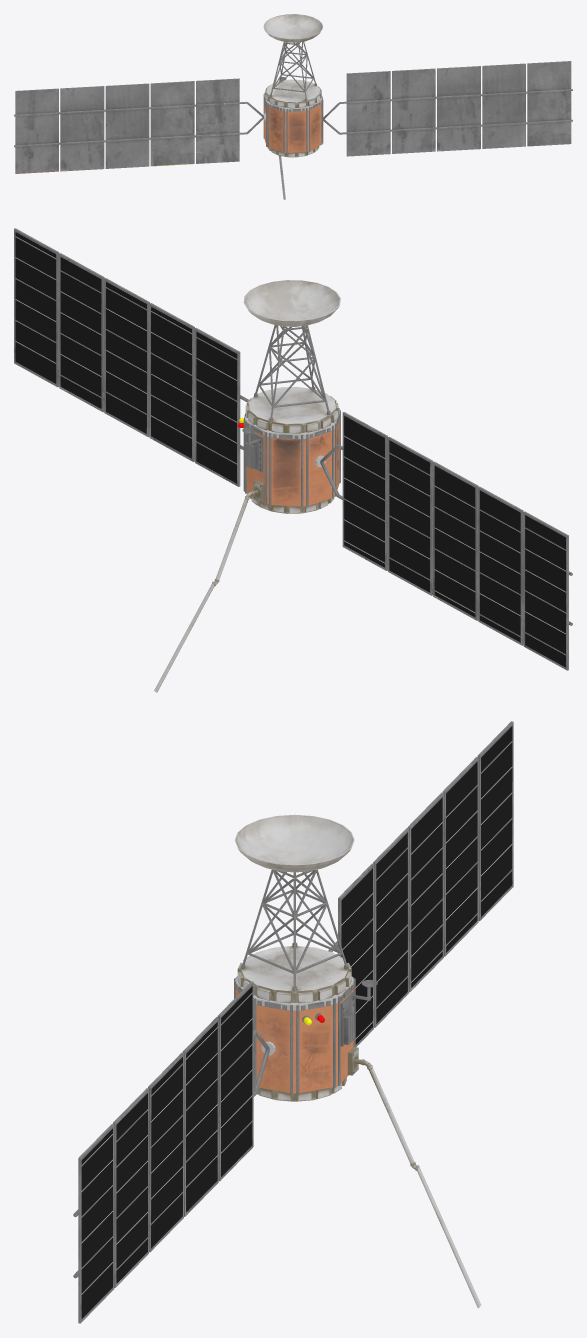
Rendered from satellite.glb.
3 views of the same model, one above another, from view 1: azimuth 30°, elevation 25°; view 2: azimuth 150°, elevation 25°; view 3: azimuth 270°, elevation 25° (orthographic). The views are drawn at different scales.
Parts seen in each view (by area): view 1: Object_2; view 2: Object_2; view 3: Object_2.
Boxes of the visible parts, <box> form: Object_2: <box>14,14,572,199</box>; Object_2: <box>14,228,572,692</box>; Object_2: <box>73,721,513,1323</box>.
Size of the model in its own units: 17.13 by 7.84 by 7.25.
1 material, 1 textured.
